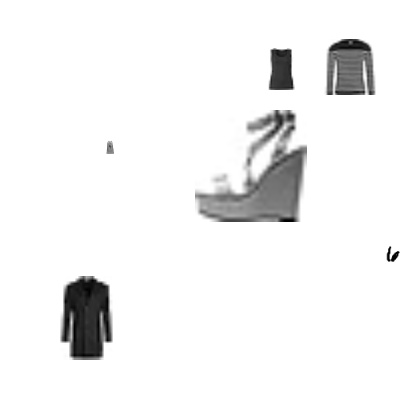6: (381, 244, 403, 266)
Coat: (43, 276, 127, 360)
Pullover: (321, 39, 377, 95)
Sandal: (195, 110, 307, 222)
Shirt: (103, 140, 117, 154)
T-shirt/top: (260, 48, 302, 90)
